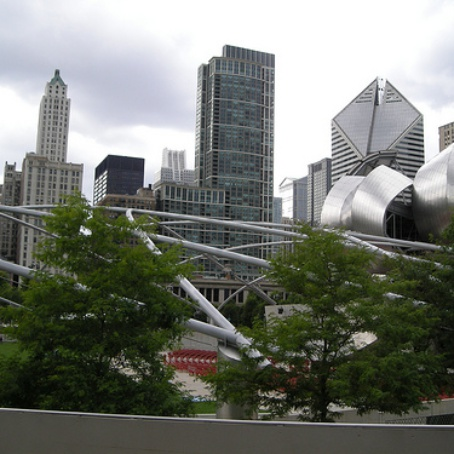building: (194, 41, 278, 220), (13, 61, 90, 201), (335, 67, 425, 179), (95, 153, 147, 204)
sky: (13, 1, 454, 79)
tree: (1, 203, 199, 413), (238, 221, 431, 424)
